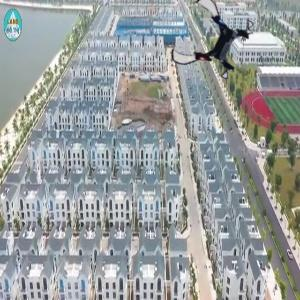drone: (175, 4, 251, 80)
